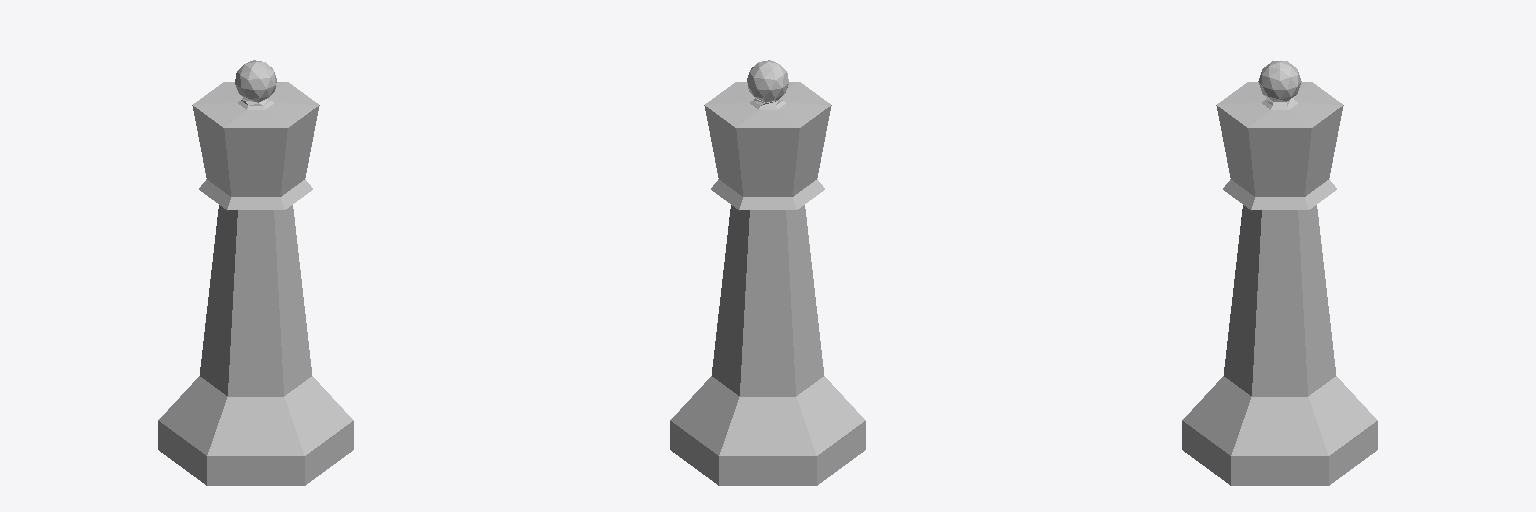
File: king.obj
3 views of the same model, side by side, from view 1: azimuth 30°, elevation 25°; view 2: azimuth 150°, elevation 25°; view 3: azimuth 270°, elevation 25° (orthographic).
Parts seen in each view (by area): view 1: King; view 2: King; view 3: King.
Boxes of the visible parts, x1=… form: King: x1=158, y1=60, x2=353, y2=485; King: x1=670, y1=60, x2=865, y2=485; King: x1=1182, y1=61, x2=1377, y2=485.
Size of the model in its own units: 0.317 by 0.8027 by 0.366.